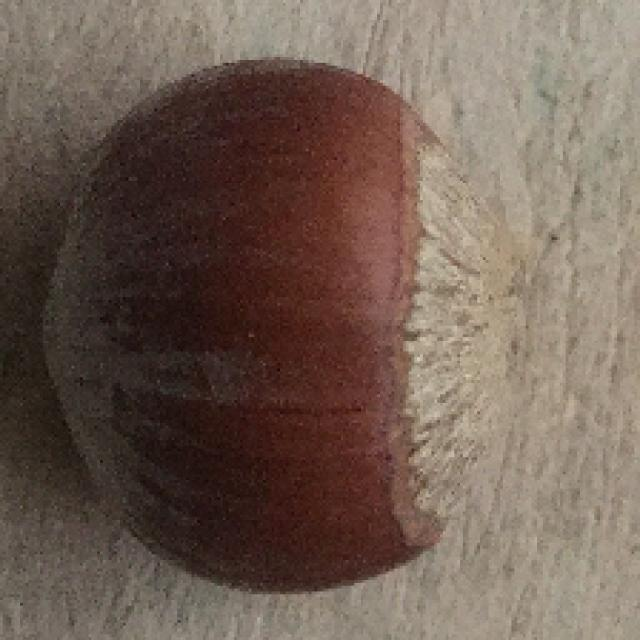QualityHazelnut: (37, 59, 531, 598)
